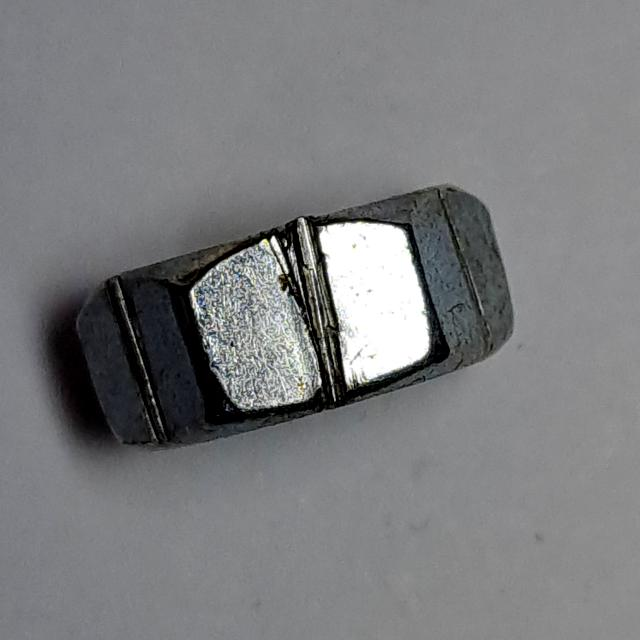Side_Scratches: (66, 156, 524, 472)
